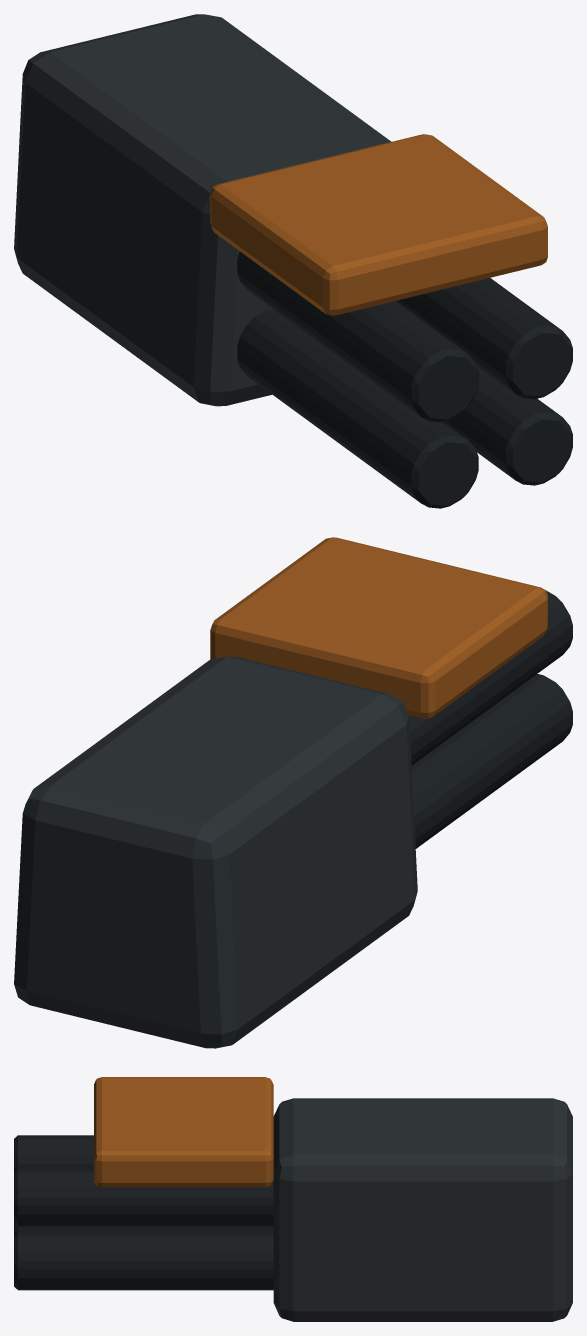
The model's file is weapon_scatter.glb.
The picture shows the model from 3 angles, top to bottom: view 1: azimuth 30°, elevation 25°; view 2: azimuth 150°, elevation 25°; view 3: azimuth 270°, elevation 25°; orthographic projection. The views are drawn at different scales.
Parts seen in each view (by area): view 1: housing, shroud, barrel_2, barrel_0, barrel_1, barrel_3; view 2: housing, shroud, barrel_2, barrel_0; view 3: housing, shroud, barrel_3, barrel_1, barrel_0, barrel_2.
Part boxes in pixels (<box>): housing: <box>14,14,391,406</box>; shroud: <box>210,134,547,315</box>; barrel_2: <box>237,308,478,508</box>; barrel_0: <box>237,251,478,422</box>; barrel_1: <box>396,278,572,399</box>; barrel_3: <box>443,366,572,485</box>; housing: <box>14,656,417,1048</box>; shroud: <box>210,537,547,718</box>; barrel_2: <box>411,674,572,848</box>; barrel_0: <box>409,590,572,765</box>; housing: <box>273,1098,572,1321</box>; shroud: <box>94,1077,273,1187</box>; barrel_3: <box>14,1232,273,1290</box>; barrel_1: <box>14,1169,273,1226</box>; barrel_0: <box>14,1135,93,1172</box>; barrel_2: <box>14,1223,273,1235</box>.
Bounding box in the file's own units: 0.95 × 0.97 × 2.8.
